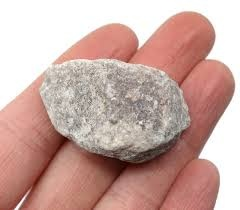obstacle: (40, 59, 189, 162)
